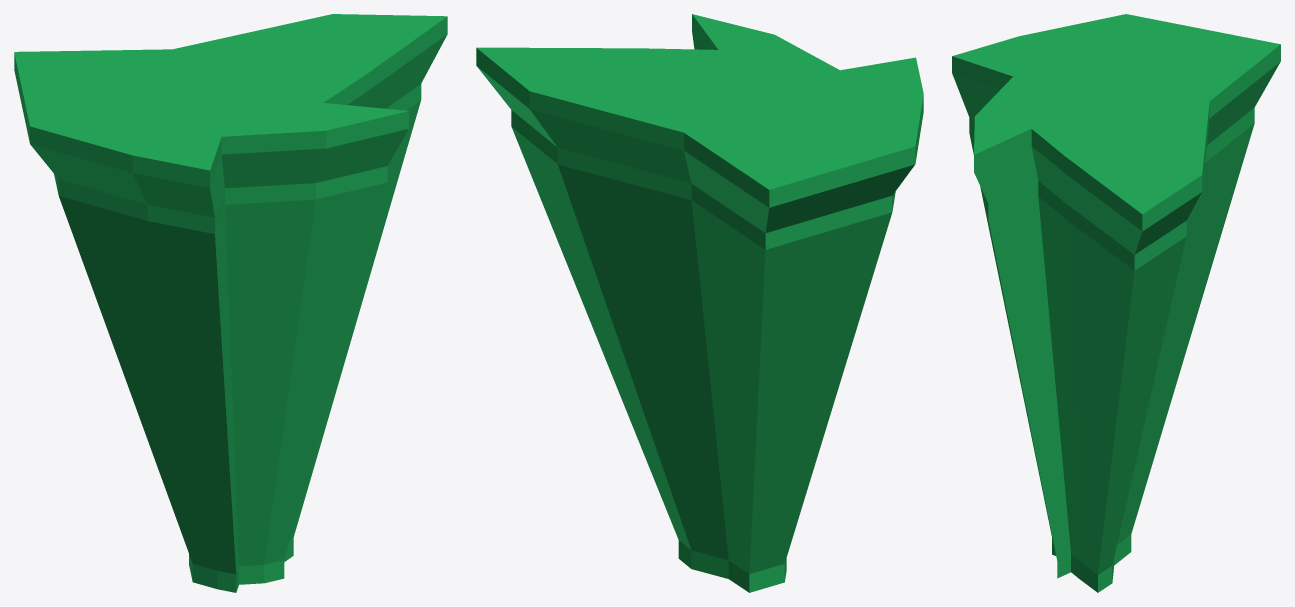
3 renders of one model, left to right at view 1: azimuth 30°, elevation 25°; view 2: azimuth 150°, elevation 25°; view 3: azimuth 270°, elevation 25°, orthographic. The views are drawn at different scales.
Parts seen in each view (by area): view 1: GN; view 2: GN; view 3: GN.
Boxes of the visible parts, x1,y1,x2,y2 form: GN: [14, 14, 447, 592]; GN: [476, 14, 923, 592]; GN: [952, 14, 1280, 592].
Bounding box in the file's own units: 47.13 × 50.65 × 32.68.
